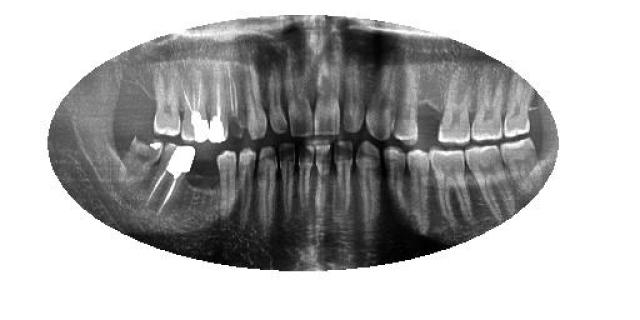Cavity: (119, 135, 165, 183)
Implant: (142, 143, 198, 215), (181, 66, 209, 142), (209, 63, 229, 145)
